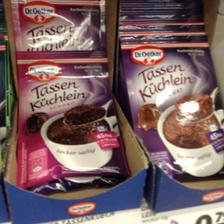Kuchen: (13, 49, 128, 187), (119, 39, 223, 187)
